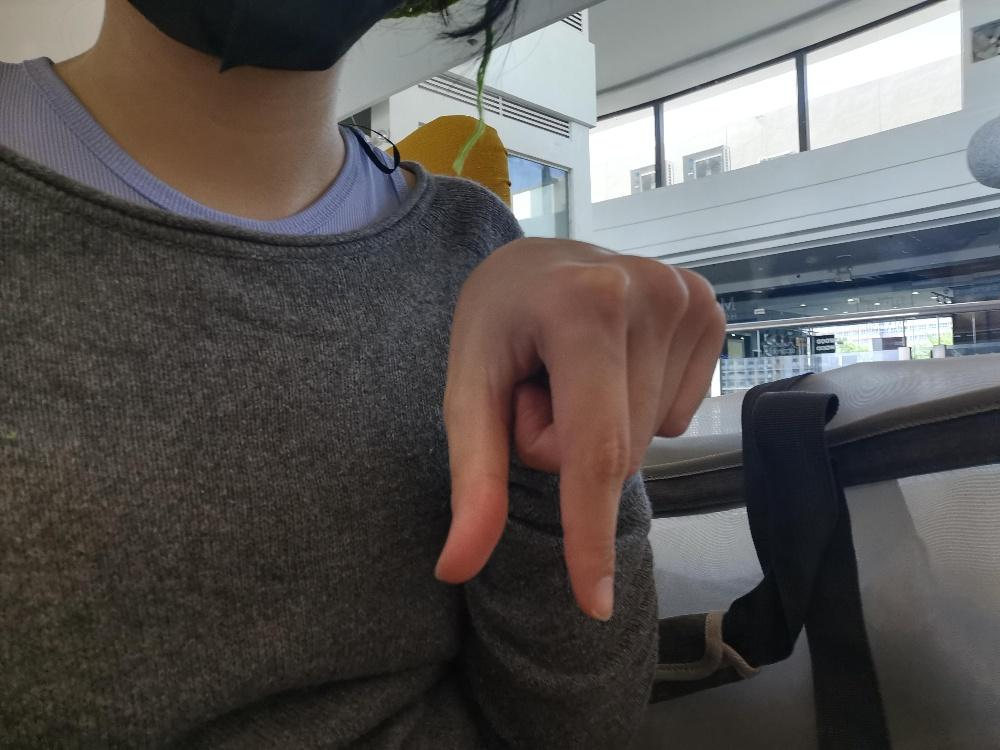q: (429, 232, 727, 624)
